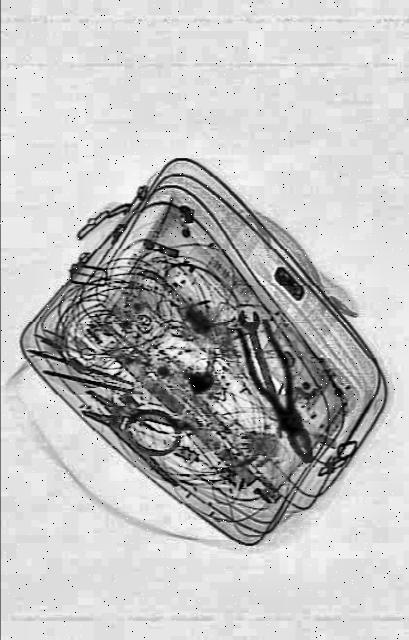Pliers: (231, 304, 326, 476), (74, 366, 198, 492)
Wrench: (234, 300, 290, 428)
